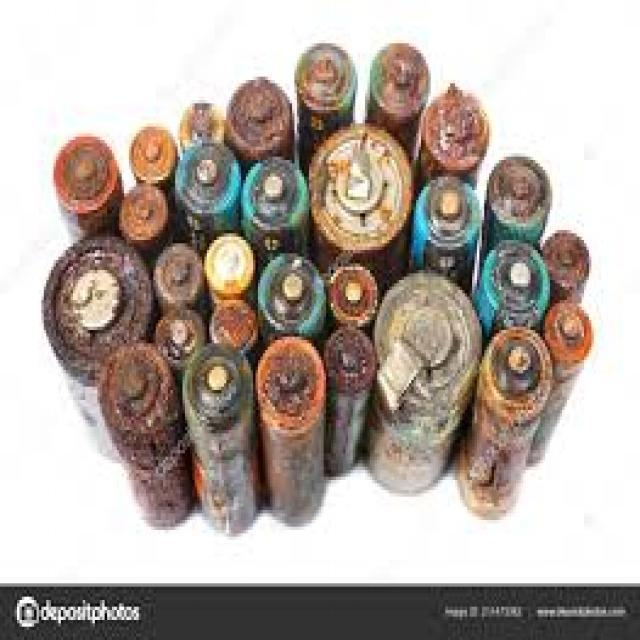battery: (367, 264, 480, 514), (42, 240, 150, 460), (450, 322, 550, 524), (93, 343, 195, 530), (181, 342, 261, 538), (254, 335, 324, 528), (526, 302, 592, 469), (321, 326, 376, 474)
